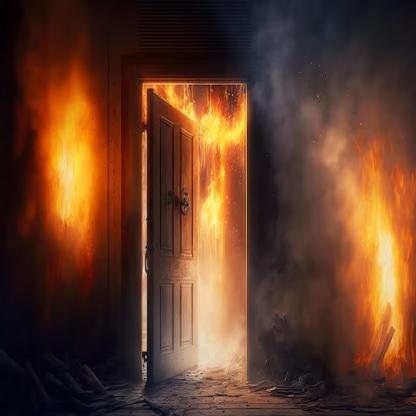fire: (133, 78, 247, 232), (357, 150, 416, 371), (40, 116, 104, 236)
smoke: (185, 0, 416, 401)
